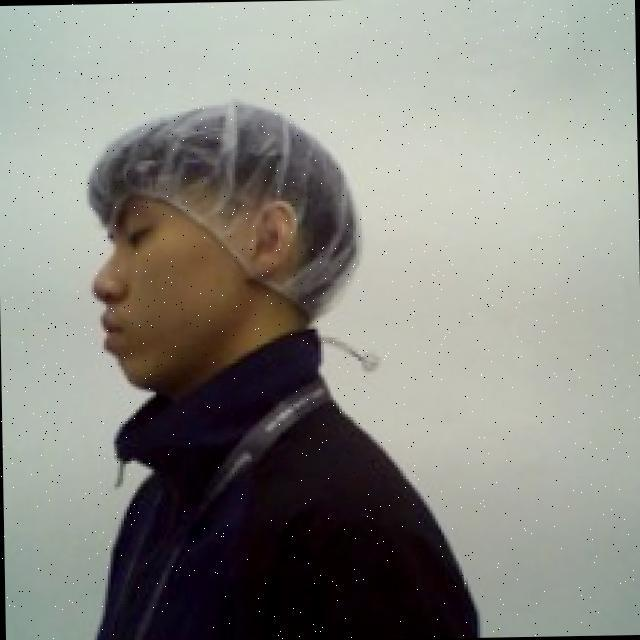gloves: (80, 104, 388, 327)
no_hairnet: (88, 212, 294, 394)
